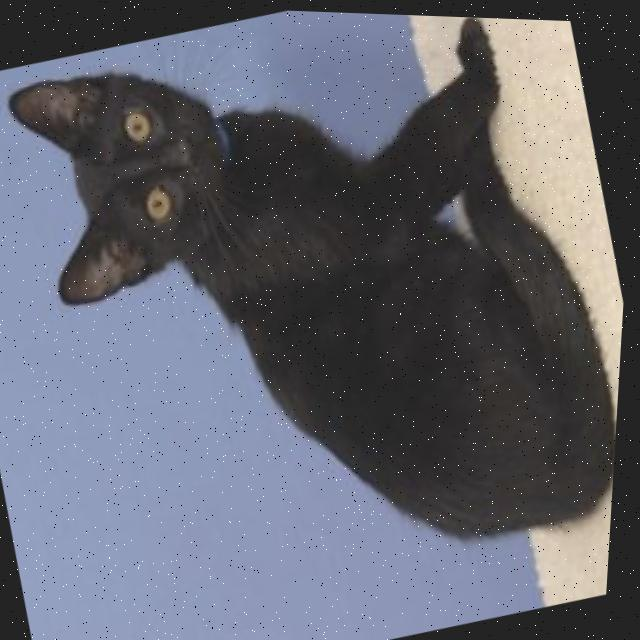Bombay: (0, 0, 640, 638)
